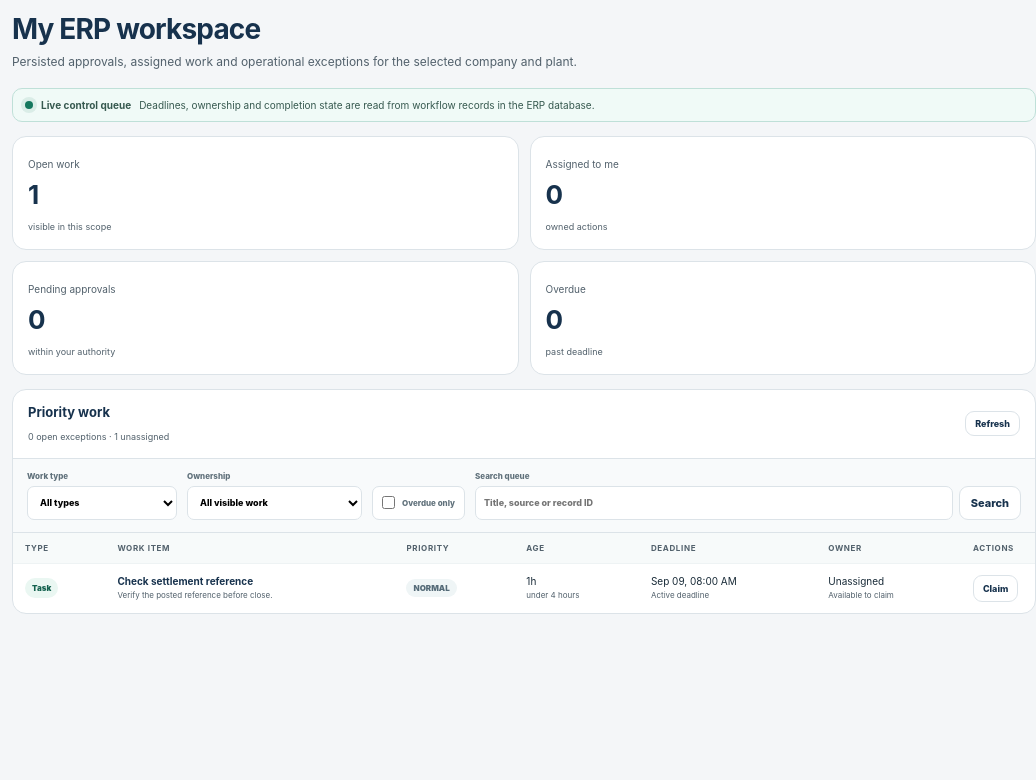
Test case: WRK_HOME › claims unassigned work with its current version and refreshes ownership
Step 1. Click the button "Claim" → {"x": 996, "y": 588}, box [973,575,1018,602]
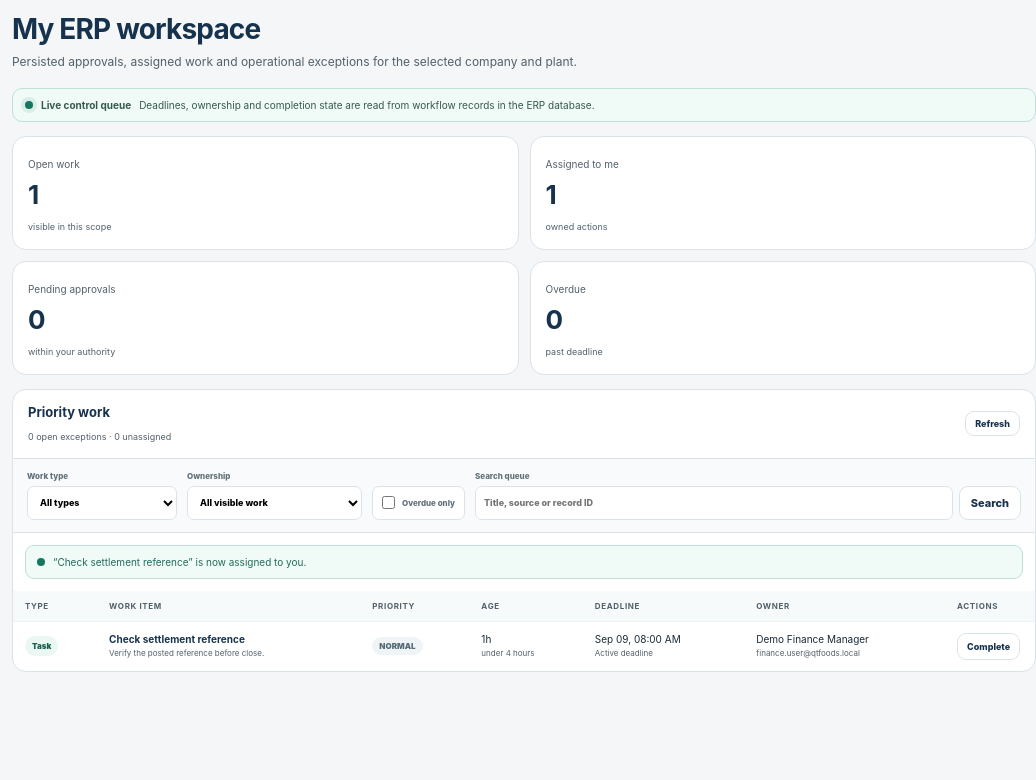
Expected: the button "Complete" is enabled, [957,633,1020,660]
Expected: the text "Demo Finance Manager" is shown, [756,633,869,645]
Expected: the message shows "is now assigned to you", [53,556,306,568]
